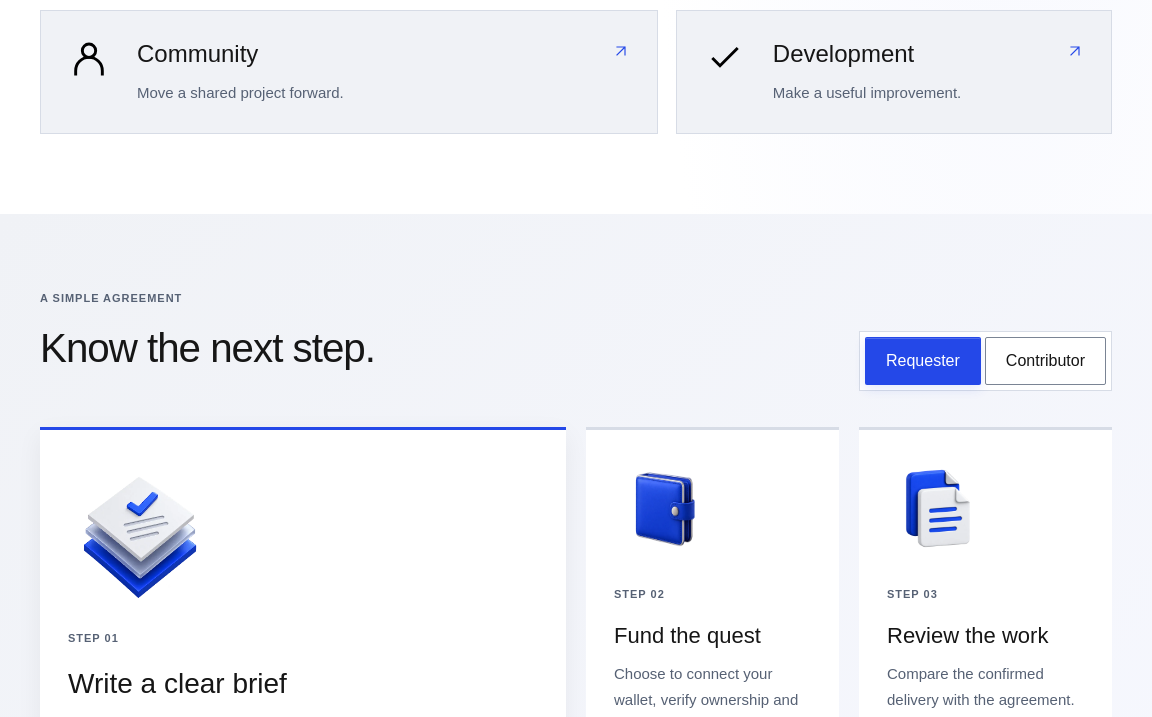
Test case: switches educational audience without changing workspace mode or requesting media
(page scrolled)
Step 1. Click the button "Contributor" → point(1045, 361), box [985, 337, 1106, 385]
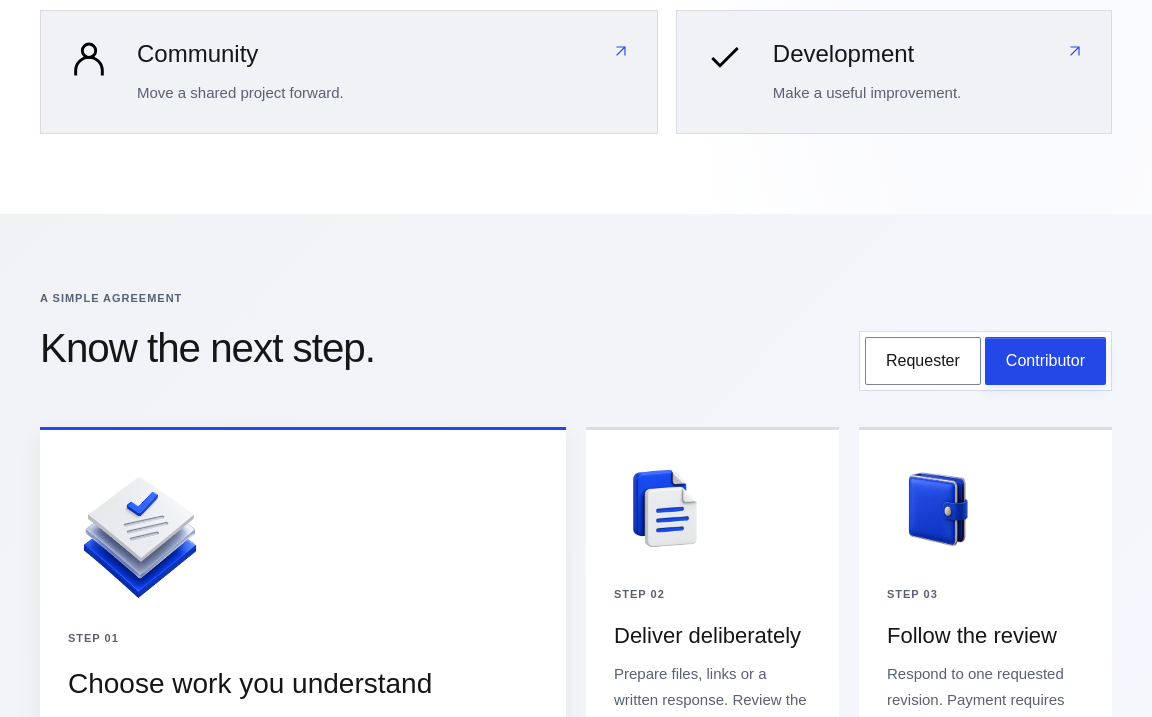
Now the text "Choose work you understand" is shown, box [68, 668, 432, 699]
